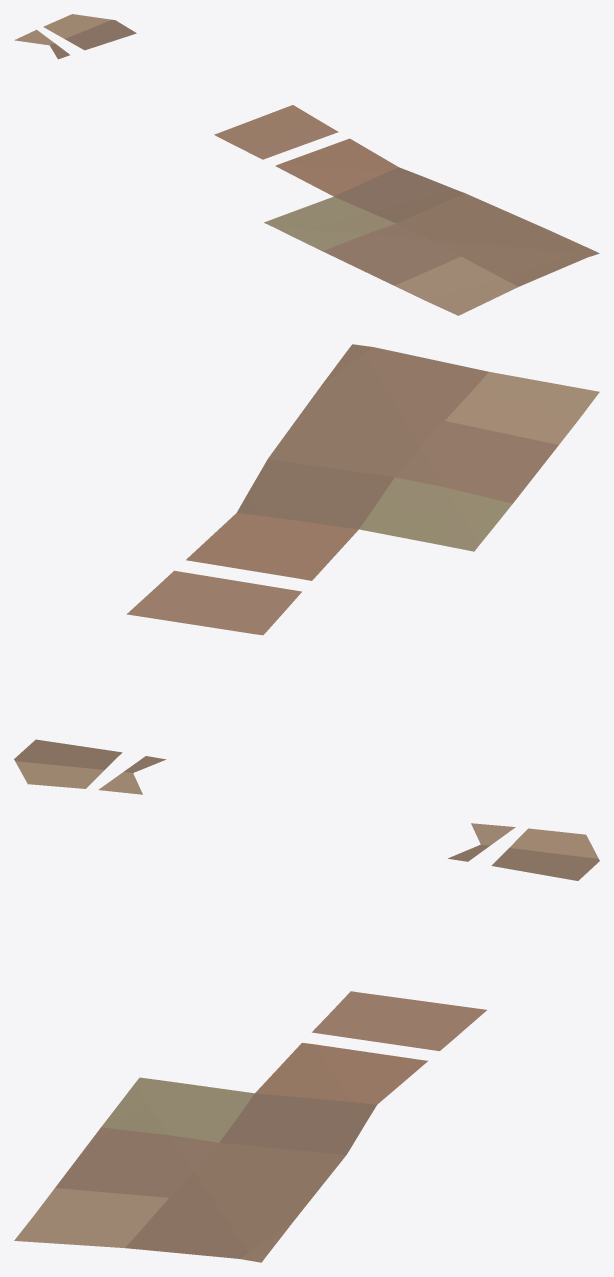
The model's file is farm_15_24_soil.glb.
3 views of the same model, one above another, from view 1: azimuth 30°, elevation 25°; view 2: azimuth 150°, elevation 25°; view 3: azimuth 330°, elevation 25° (orthographic). The views are drawn at different scales.
Parts seen in each view (by area): view 1: geometry_0; view 2: geometry_0; view 3: geometry_0.
Part boxes in pixels (x1,y1,x2,y2): geometry_0: [14, 14, 599, 315]; geometry_0: [14, 344, 599, 794]; geometry_0: [14, 823, 599, 1262].
Bounding box in the file's own units: 99.41 × 4.41 × 318.
